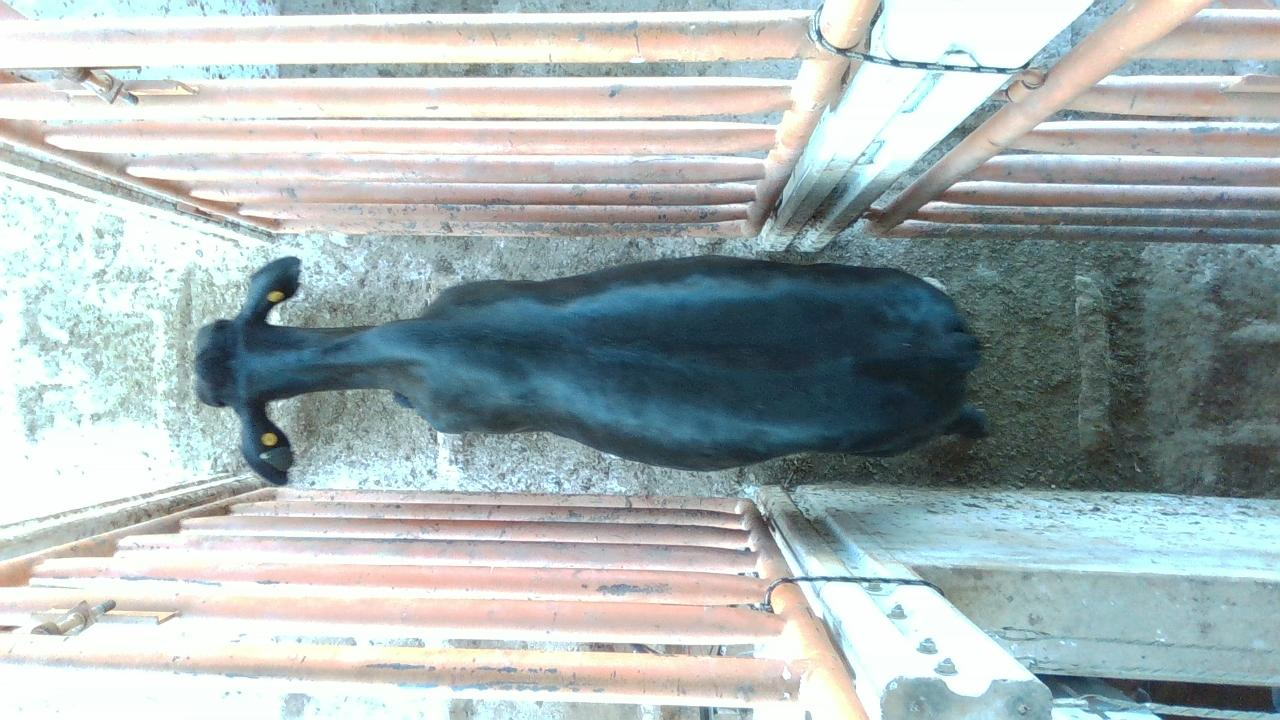cattle: (191, 251, 989, 486)
